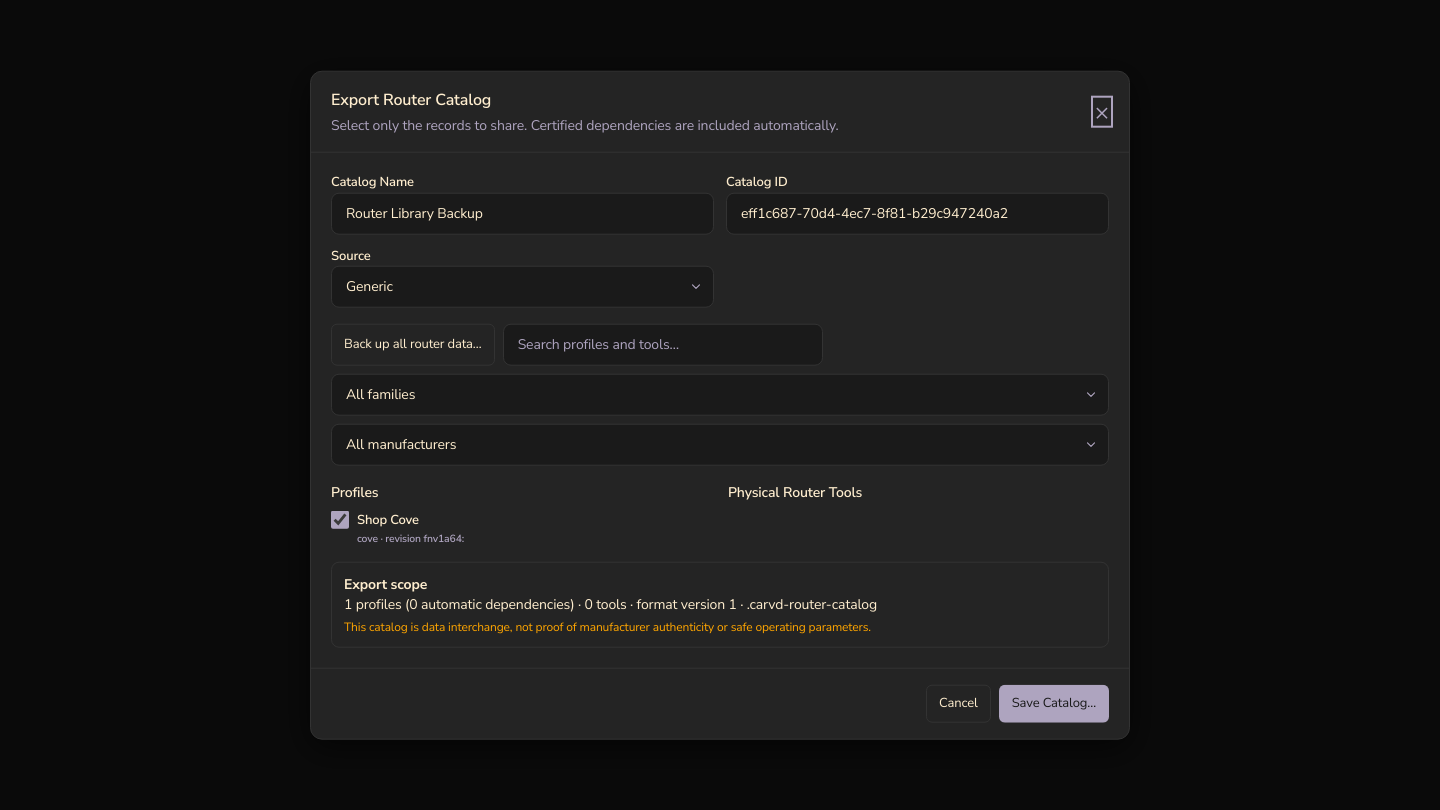
Test: RouterCatalogExportDialog › keeps the wizard open with a bounded save error
This screenshot has width=1440, height=810.
Step 1. Click the button "Save Catalog…" → (1054, 704), box x1=999 y1=685 x2=1109 y2=722
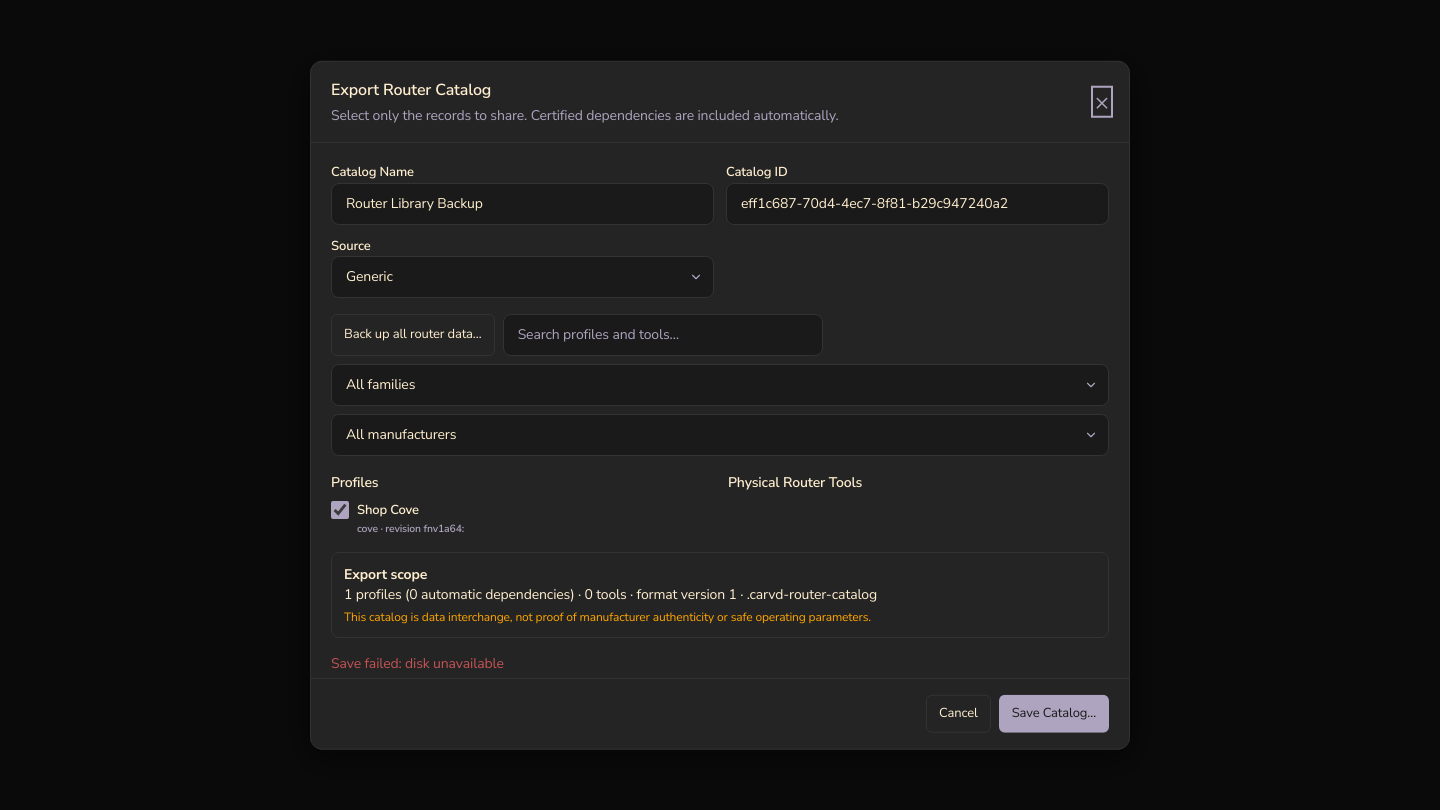
Now the message reads "Save failed: disk unavailable", box x1=331 y1=654 x2=504 y2=673
